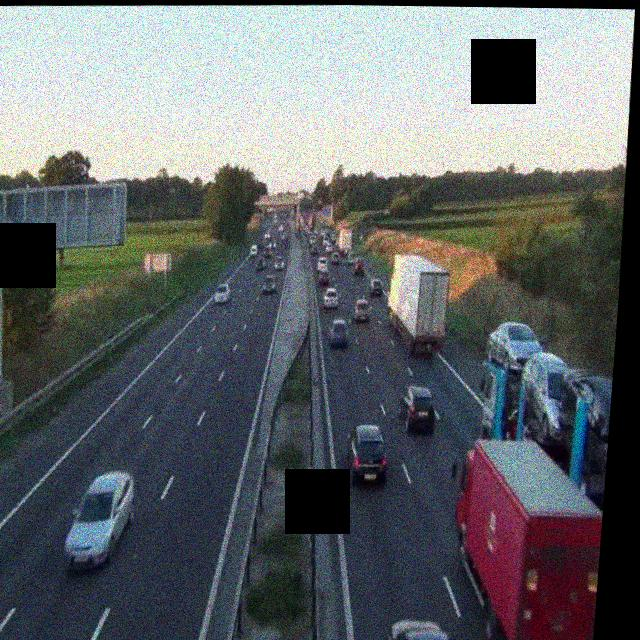car: (62, 470, 138, 570), (485, 321, 544, 373), (344, 423, 390, 484), (395, 385, 440, 433), (388, 618, 458, 640), (328, 318, 349, 346), (352, 298, 371, 322), (213, 282, 231, 305), (321, 288, 339, 308), (369, 277, 384, 295), (263, 273, 276, 292), (353, 258, 366, 275), (317, 267, 330, 284), (275, 256, 285, 270), (255, 258, 266, 270), (331, 252, 340, 266), (311, 243, 320, 255)
truck: (443, 437, 608, 640), (553, 371, 613, 513), (382, 252, 453, 354), (336, 223, 354, 255)
